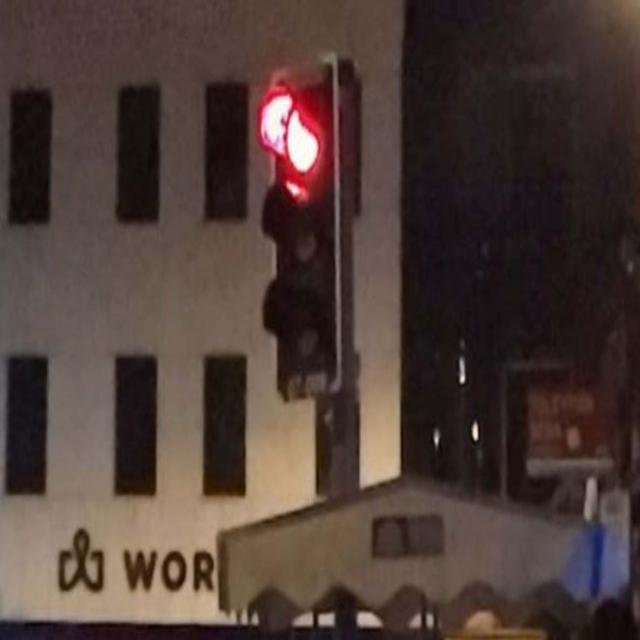kirmizi: (270, 62, 336, 394)
